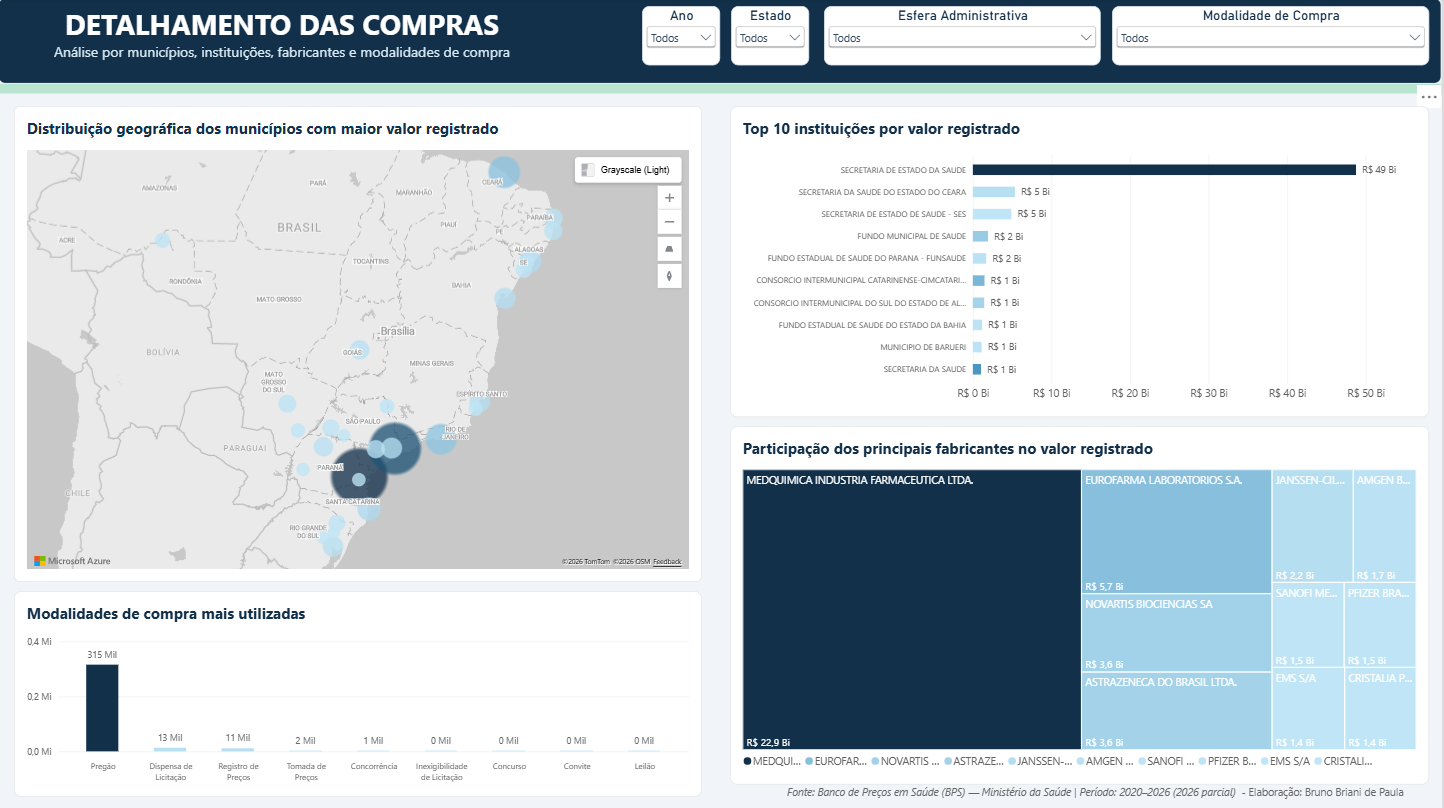

The dashboard page shown, as its layout file describes it:
{"tool":"powerbi","page":{"name":"Detalhamento das Compras","canvas":[1920,1080],"ordinal":3},"visuals":[{"type":"shape","box":[0,114.2,1920,12.7],"z":0},{"type":"shape","box":[0,0,1920,114.2],"z":1000},{"type":"treemap","title":"Participação dos principais fabricantes no valor registrado","fields":{"Group":["Fato_BPS.fabricante"],"Values":["Medidas.Valor Total Registrado"]},"box":[974.1,569.3,929.6,477.4],"z":2000},{"type":"barChart","title":"Top 10 instituições por valor registrado","fields":{"Category":["Fato_BPS.nome_instituicao"],"Y":["Medidas.Valor Total Registrado"]},"box":[974.1,143.8,929.6,413.7],"z":3000},{"type":"clusteredColumnChart","title":"Modalidades de compra mais utilizadas","fields":{"Category":["Fato_BPS.modalidade_compra"],"Y":["Dim_Calendario.Número de Registros Numérico"]},"box":[20.8,788.8,914.8,274.3],"z":4000},{"type":"textbox","box":[14.3,9.5,726.1,117.3],"z":5000},{"type":"slicer","title":"Modalidade de Compra","fields":{"Values":["Fato_BPS.modalidade_compra"]},"box":[1482.3,10.2,421.6,78.8],"z":6000},{"type":"slicer","title":"Esfera Administrativa","fields":{"Values":["Fato_BPS.esfera"]},"box":[1098.6,10.2,367.7,78.8],"z":7000},{"type":"slicer","title":"Ano","fields":{"Values":["Dim_Calendario.Ano"]},"box":[856.4,10.2,103.6,78.8],"z":8000},{"type":"slicer","title":"Estado","fields":{"Values":["Fato_BPS.uf"]},"box":[974.6,10.2,103.6,78.8],"z":9000},{"type":"textbox","box":[1049.7,1046.7,854,32.6],"z":14000},{"type":"azureMap","title":"Distribuição geográfica dos municípios com maior valor registrado","fields":{"Category":["Fato_BPS.Localização Município"],"Size":["Medidas.Valor Total Registrado"]},"box":[20.8,143.8,914.8,633.1],"z":15000}]}

Visuals, with their boxes in screenshot pixels (x1, y1, x2, y2), scaled from the page's 1920x1080 canvas onto the 1444x808 screenshot:
shape: bbox=(0, 85, 1443, 95)
shape: bbox=(0, 0, 1443, 85)
"Participação dos principais fabricantes no valor registrado" treemap: bbox=(733, 426, 1432, 783)
"Top 10 instituições por valor registrado" barChart: bbox=(733, 108, 1432, 417)
"Modalidades de compra mais utilizadas" clusteredColumnChart: bbox=(16, 590, 704, 795)
textbox: bbox=(11, 7, 557, 95)
"Modalidade de Compra" slicer: bbox=(1115, 8, 1432, 67)
"Esfera Administrativa" slicer: bbox=(826, 8, 1103, 67)
"Ano" slicer: bbox=(644, 8, 722, 67)
"Estado" slicer: bbox=(733, 8, 811, 67)
textbox: bbox=(789, 783, 1432, 807)
"Distribuição geográfica dos municípios com maior valor registrado" azureMap: bbox=(16, 108, 704, 581)
